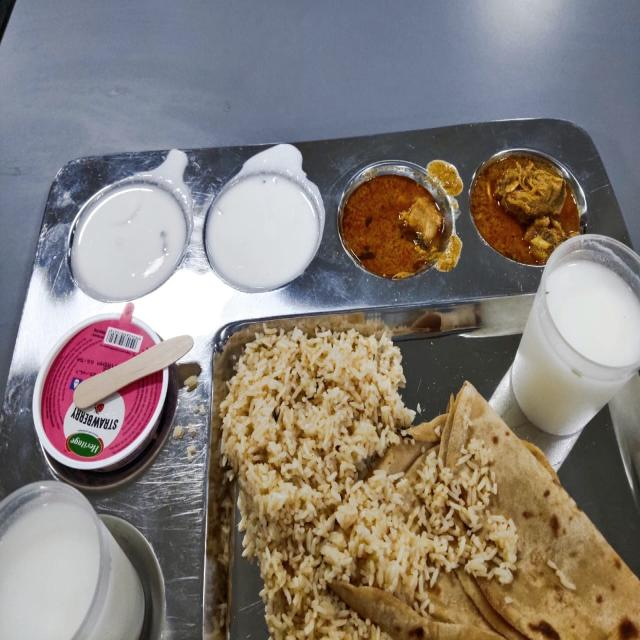Bagara rice: (236, 340, 379, 638)
Chicken curry: (338, 143, 464, 300)
Icecream: (38, 322, 169, 482)
Raita: (73, 168, 196, 298)
Roti: (451, 381, 624, 640), (532, 254, 640, 416)
